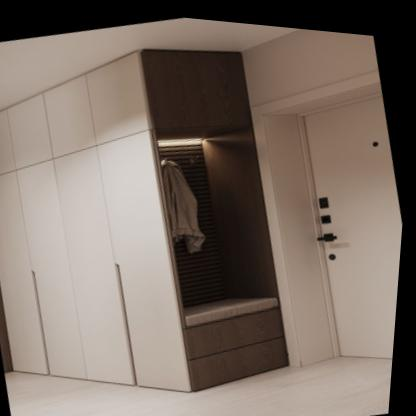Closet: (0, 46, 295, 389)
